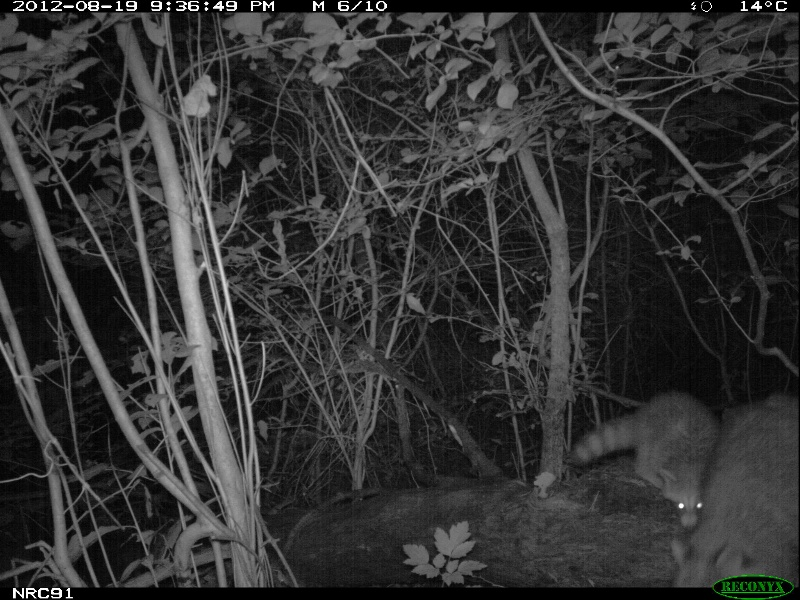raccoon: (567, 390, 722, 534)
